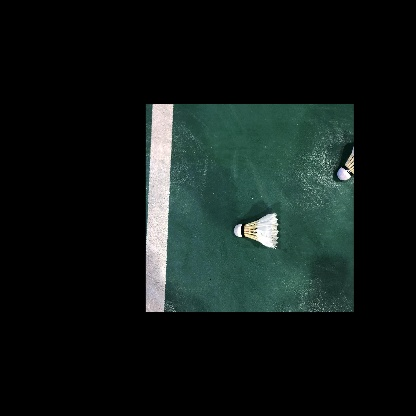ball_single: (234, 213, 279, 249), (337, 146, 354, 180)
